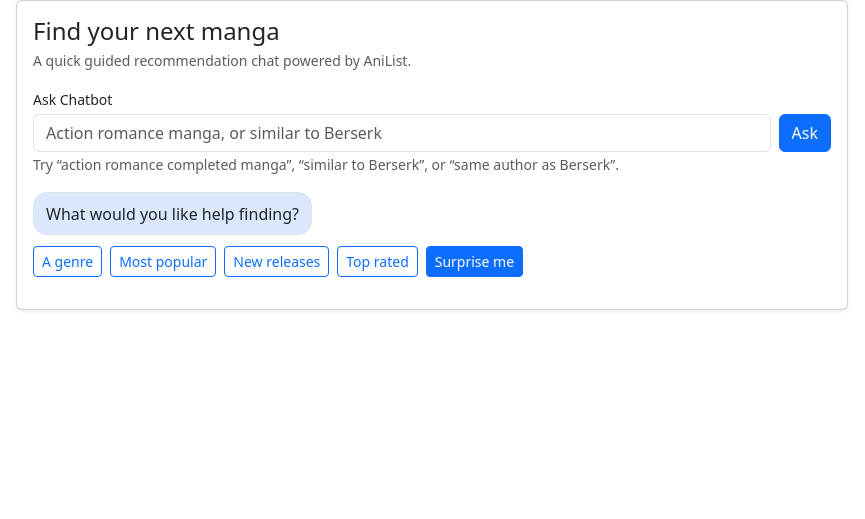
GuidedRecommendationChat › resolves a same-author request then excludes the referenced manga
Step 1. Type "same author as Berserk" into the field labelled "Ask Chatbot" → (402, 133), box [33,114,771,152]
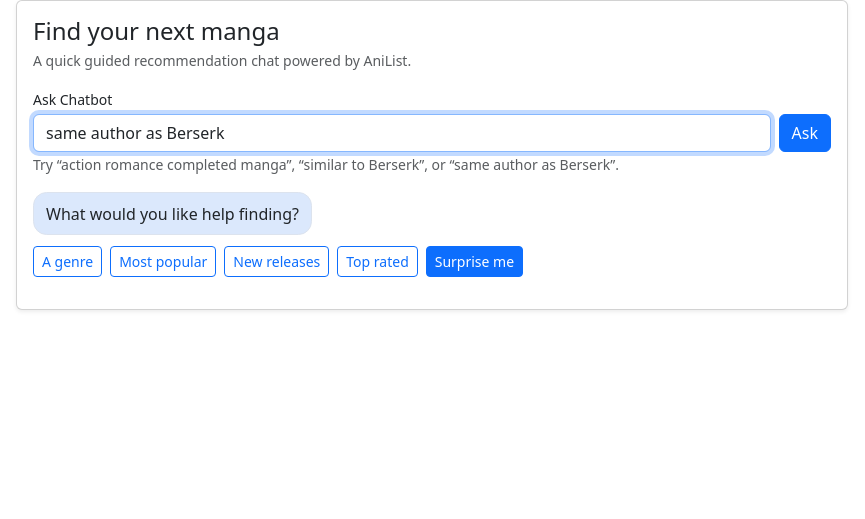
Step 2. Click the button "Ask" → (805, 133), box [779,114,831,152]
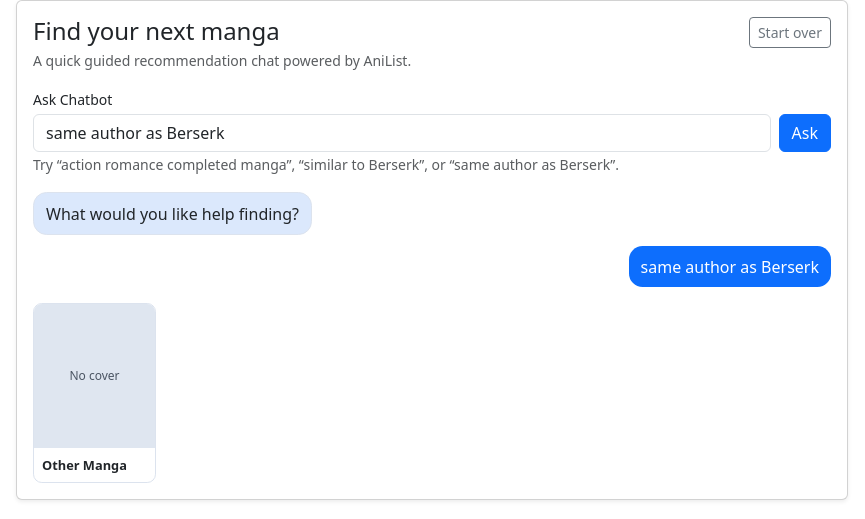
Expected: the text "Other Manga" is shown, [42,456,127,474]
